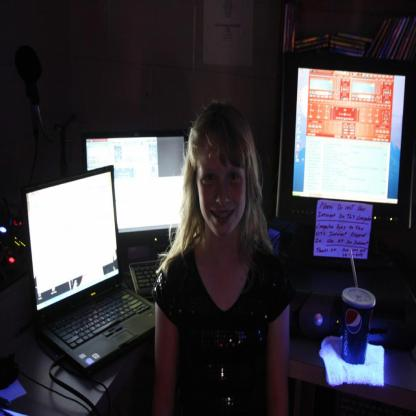board: (24, 166, 157, 366), (342, 287, 376, 365)
